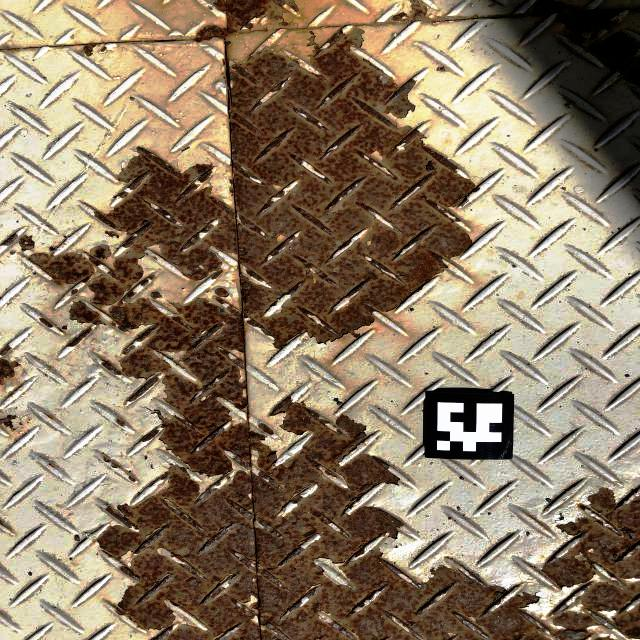Corrosion: (22, 25, 640, 640), (529, 0, 640, 92), (190, 0, 300, 47), (0, 345, 21, 390), (0, 231, 37, 252), (0, 411, 21, 432), (78, 42, 98, 61), (101, 457, 121, 469), (38, 317, 55, 328), (115, 418, 126, 427), (128, 475, 137, 483), (180, 146, 191, 152), (99, 46, 108, 53)
